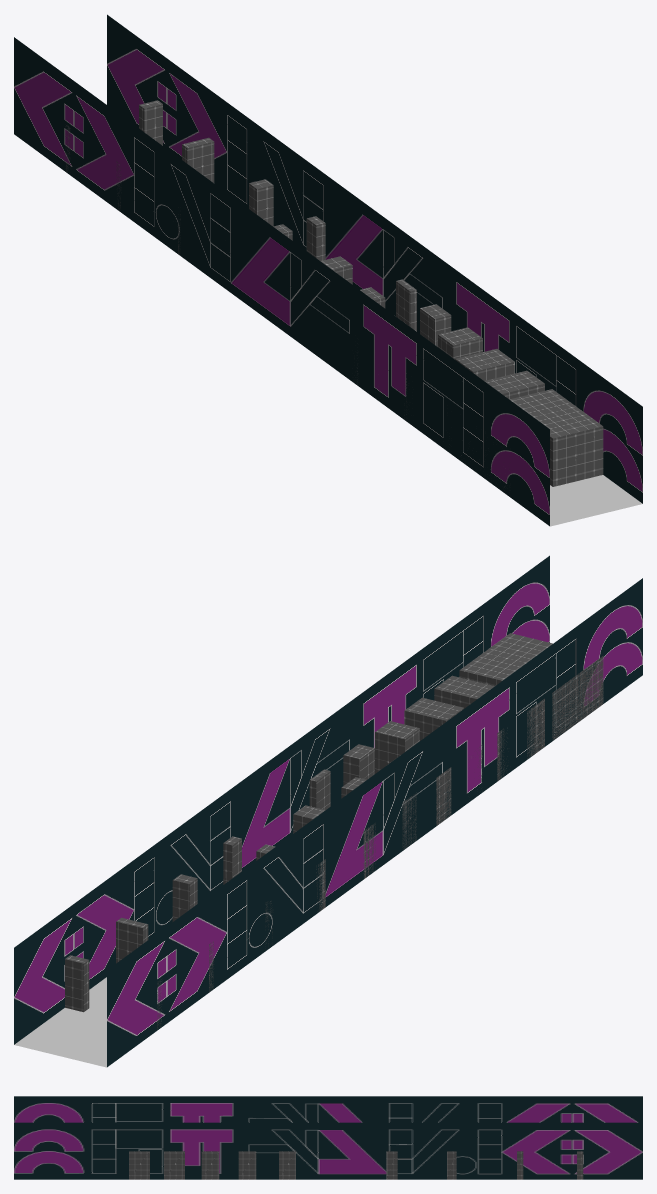
The model's file is Tile13.fbx.
3 views of the same model, one above another, from view 1: azimuth 30°, elevation 25°; view 2: azimuth 150°, elevation 25°; view 3: azimuth 270°, elevation 25° (orthographic). The views are drawn at different scales.
Parts seen in each view (by area): view 1: WallRight, WallLeft, polySurface28, ground, polySurface29, polySurface21, polySurface30, polySurface27, polySurface17, polySurface3, polySurface13, polySurface32 (+1 smaller); view 2: WallRight, WallLeft, ground, polySurface24, polySurface28, polySurface21, polySurface29, polySurface32, polySurface30, polySurface27, polySurface17, polySurface9 (+6 smaller); view 3: WallLeft, WallRight, polySurface30, polySurface29, polySurface17, polySurface21, polySurface13, polySurface7, polySurface3, polySurface32, polySurface27.
Boxes of the visible parts, x1=… form: WallRight: x1=14, y1=37, x2=549, y2=526; WallLeft: x1=107, y1=14, x2=642, y2=503; polySurface28: x1=509, y1=389, x2=603, y2=486; ground: x1=550, y1=475, x2=642, y2=526; polySurface29: x1=455, y1=349, x2=514, y2=380; polySurface21: x1=438, y1=327, x2=482, y2=359; polySurface30: x1=484, y1=370, x2=544, y2=399; polySurface27: x1=182, y1=137, x2=214, y2=183; polySurface17: x1=420, y1=304, x2=451, y2=346; polySurface3: x1=249, y1=179, x2=273, y2=226; polySurface13: x1=396, y1=279, x2=416, y2=331; polySurface32: x1=139, y1=100, x2=162, y2=145; WallRight: x1=107, y1=578, x2=642, y2=1067; WallLeft: x1=14, y1=555, x2=549, y2=1044; ground: x1=14, y1=977, x2=106, y2=1067; polySurface24: x1=552, y1=656, x2=603, y2=739; polySurface28: x1=459, y1=633, x2=552, y2=685; polySurface21: x1=375, y1=721, x2=419, y2=773; polySurface29: x1=404, y1=697, x2=463, y2=740; polySurface32: x1=65, y1=955, x2=89, y2=1012; polySurface30: x1=434, y1=675, x2=494, y2=708; polySurface27: x1=116, y1=917, x2=148, y2=963; polySurface17: x1=343, y1=744, x2=374, y2=785; polySurface9: x1=293, y1=805, x2=375, y2=878; WallLeft: x1=14, y1=1122, x2=642, y2=1179; WallRight: x1=14, y1=1096, x2=642, y2=1122; polySurface30: x1=129, y1=1151, x2=149, y2=1179; polySurface29: x1=164, y1=1151, x2=184, y2=1179; polySurface17: x1=238, y1=1151, x2=256, y2=1179; polySurface21: x1=201, y1=1151, x2=219, y2=1179; polySurface13: x1=279, y1=1151, x2=295, y2=1179; polySurface7: x1=386, y1=1151, x2=397, y2=1179; polySurface3: x1=447, y1=1151, x2=456, y2=1179; polySurface32: x1=577, y1=1151, x2=583, y2=1179; polySurface27: x1=517, y1=1151, x2=523, y2=1179.
Size of the model in its own units: 10 by 10 by 100.
